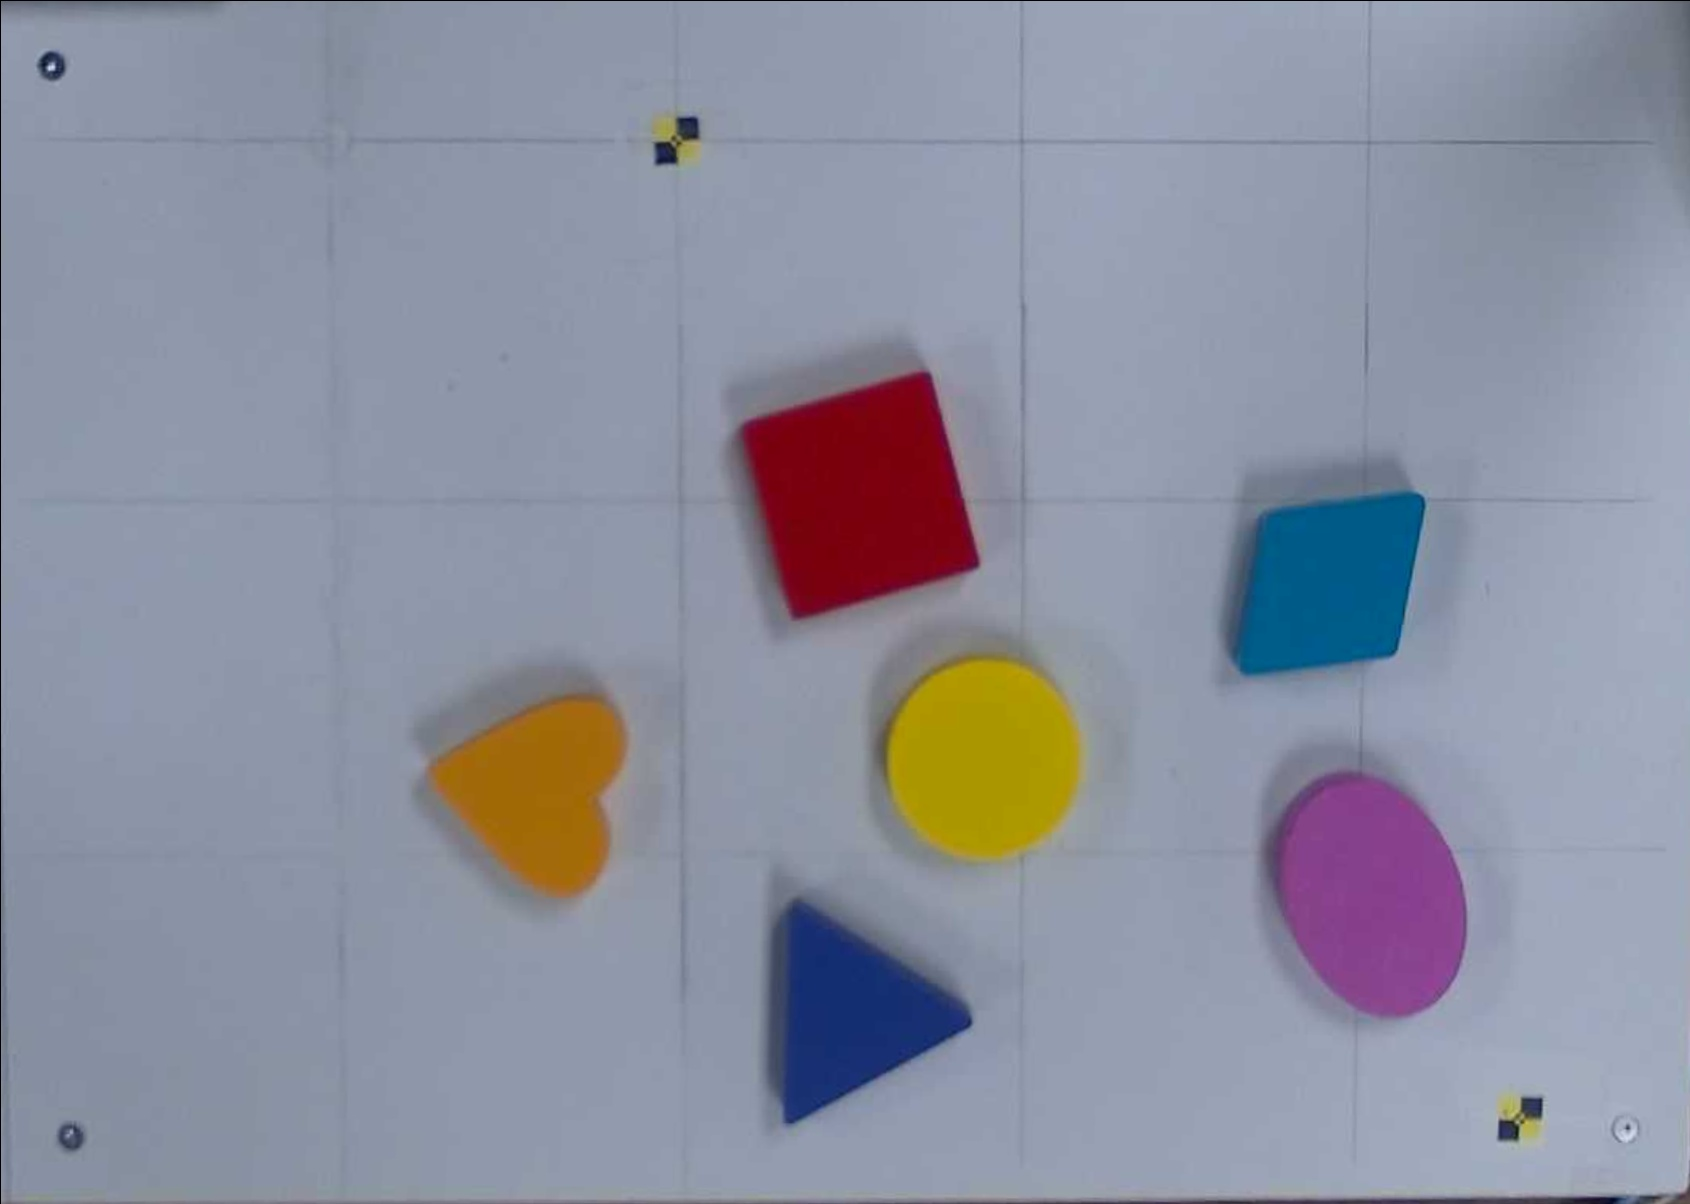Circle: (886, 655, 1084, 864)
Ellipse: (1280, 779, 1466, 1019)
Heart: (426, 697, 628, 900)
Parallelogram: (1235, 493, 1425, 676)
Square: (740, 373, 980, 622)
Triangle: (784, 903, 971, 1125)
